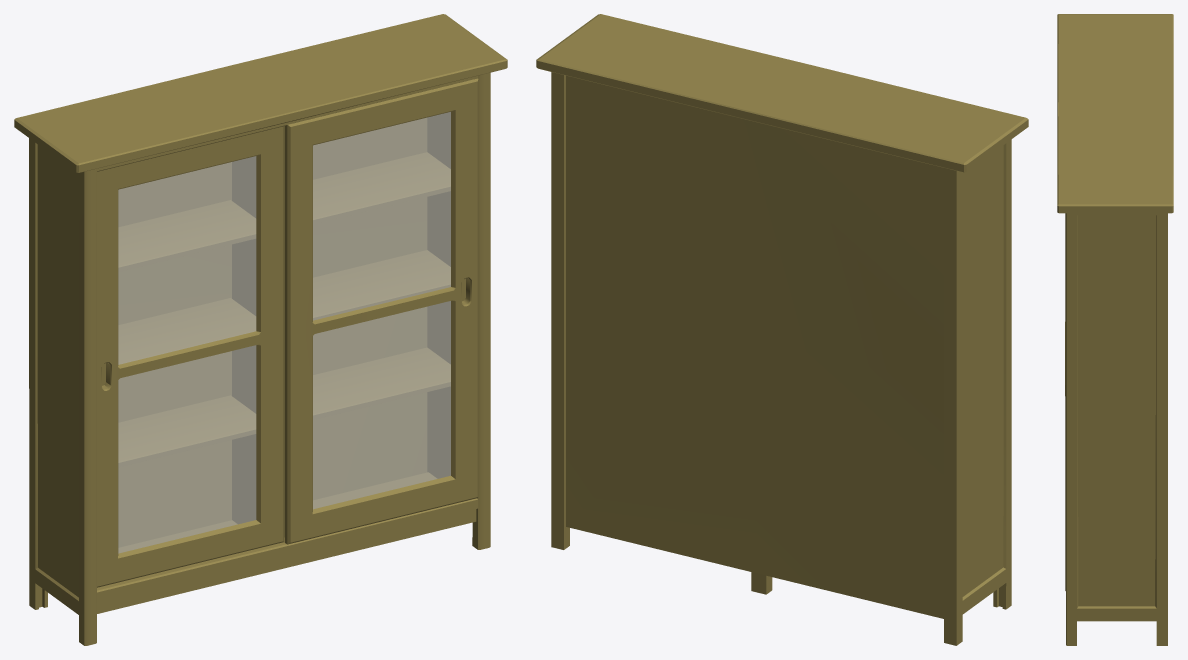
File: GranemoGlassDoorCabinetD.FBX
3 renders of one model, left to right at view 1: azimuth 30°, elevation 25°; view 2: azimuth 150°, elevation 25°; view 3: azimuth 270°, elevation 25°, orthographic. The views are drawn at different scales.
Visible parts, largest first — view 1: GranemoGlassDoorCabinetD; view 2: GranemoGlassDoorCabinetD; view 3: GranemoGlassDoorCabinetD.
Boxes of the visible parts, x1,y1,x2,y2 form: GranemoGlassDoorCabinetD: (14,14,507,645); GranemoGlassDoorCabinetD: (536,14,1028,645); GranemoGlassDoorCabinetD: (1057,14,1173,645).
Size of the model in its own units: 161 by 41.18 by 174.
